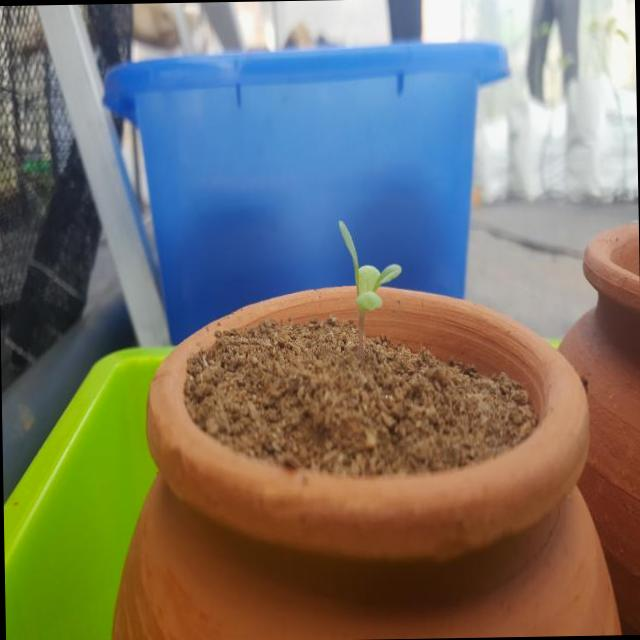Lettuce-Not-Ready-to-Harvest: (338, 220, 401, 335)
